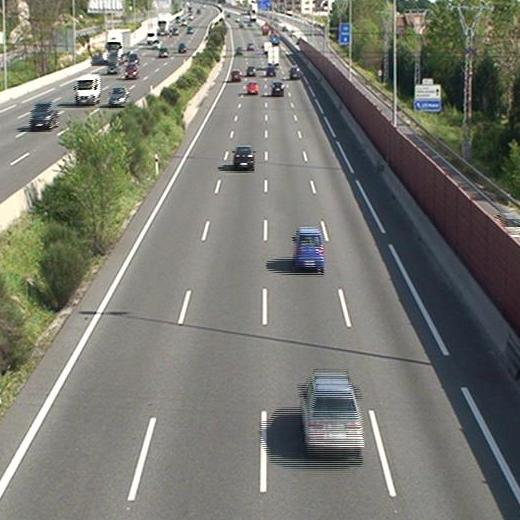car: (301, 373, 363, 457), (293, 229, 325, 269), (233, 147, 253, 169), (272, 82, 284, 96), (230, 69, 241, 83), (289, 67, 300, 79), (246, 82, 258, 93), (246, 67, 255, 77)
small-truck: (266, 45, 279, 69)
